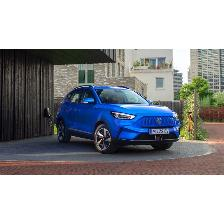EV: (58, 84, 183, 155)
